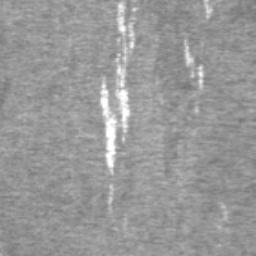White rust: (101, 77, 117, 175), (117, 1, 136, 49), (118, 90, 129, 123), (184, 40, 194, 67), (204, 0, 213, 18), (199, 65, 203, 89)
